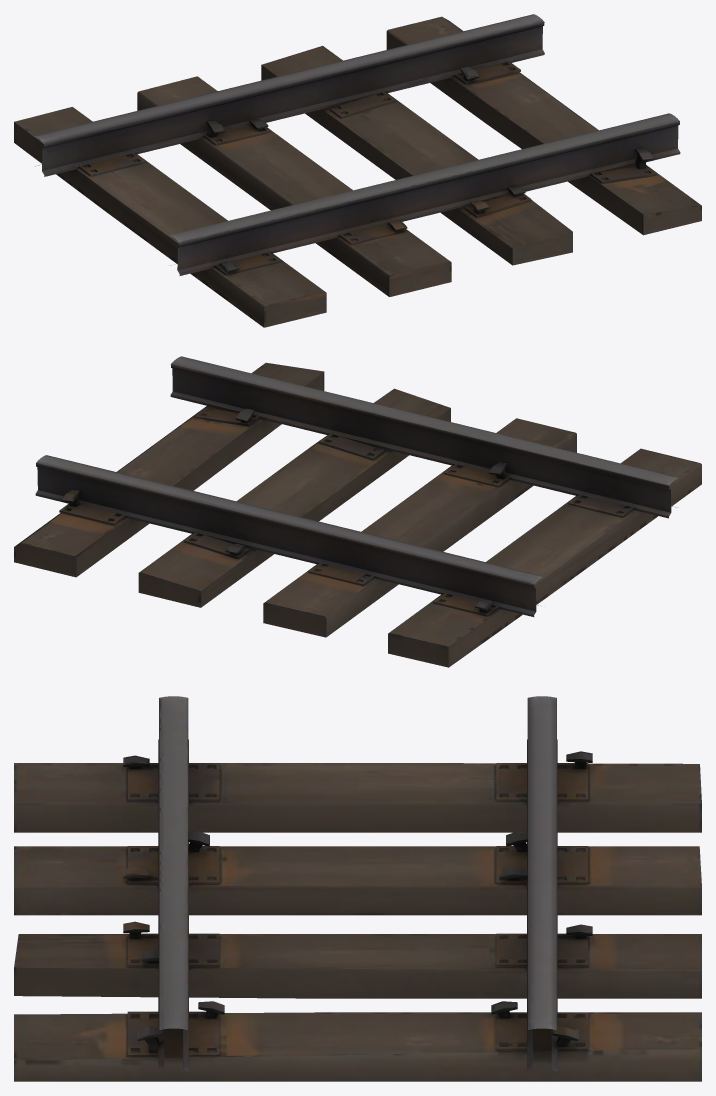
The picture shows the model from 3 angles, top to bottom: view 1: azimuth 30°, elevation 25°; view 2: azimuth 150°, elevation 25°; view 3: azimuth 270°, elevation 25°; orthographic projection. The views are drawn at different scales.
Visible parts, largest first — view 1: body0_model0_lod0_mesh0; view 2: body0_model0_lod0_mesh0; view 3: body0_model0_lod0_mesh0.
Boxes of the visible parts, left/top/right/bottom form: body0_model0_lod0_mesh0: left=14, top=14, right=701, bottom=327; body0_model0_lod0_mesh0: left=14, top=356, right=701, bottom=667; body0_model0_lod0_mesh0: left=14, top=696, right=701, bottom=1081.
Size of the model in its own units: 128 by 13.28 by 112.
Materials: 1 (1 with a texture image).
